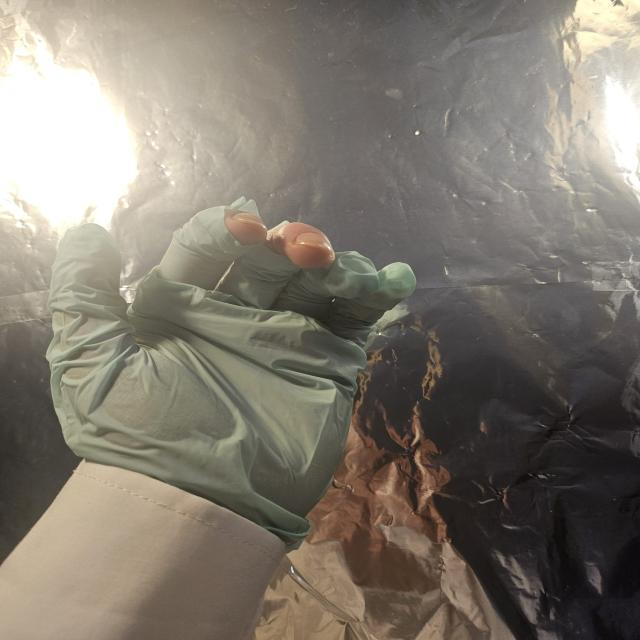gloves_damaged: (46, 194, 420, 556)
